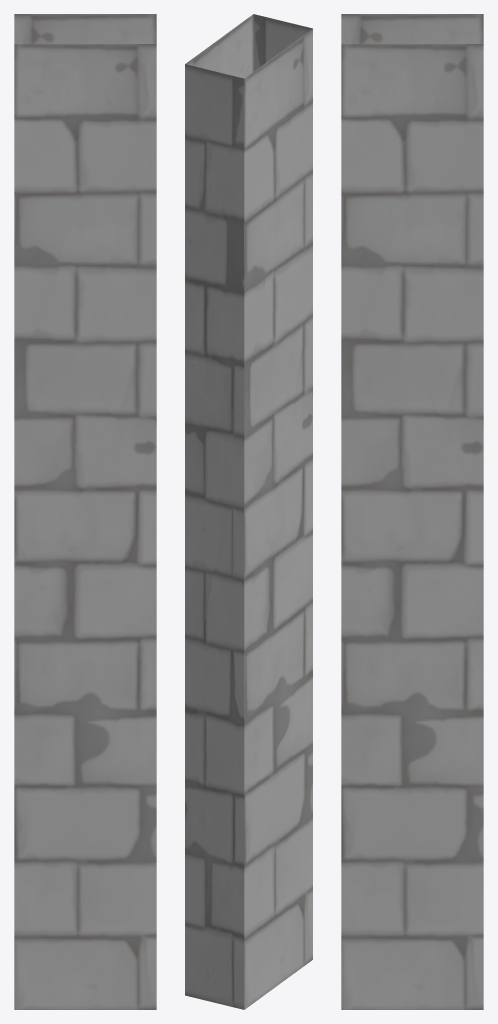
Rendered from Wall02x04_Prototype.fbx.
3 views of the same model, side by side, from view 1: azimuth 90°, elevation 25°; view 2: azimuth 150°, elevation 25°; view 3: azimuth 270°, elevation 25° (orthographic). The views are drawn at different scales.
Parts seen in each view (by area): view 1: Mat_Tile_BrickWall01 4; view 2: Mat_Tile_BrickWall01 4; view 3: Mat_Tile_BrickWall01 4.
Boxes of the visible parts, left/top/right/bottom form: Mat_Tile_BrickWall01 4: left=14, top=14, right=156, bottom=1009; Mat_Tile_BrickWall01 4: left=185, top=14, right=312, bottom=1009; Mat_Tile_BrickWall01 4: left=341, top=14, right=483, bottom=1009.
Bounding box in the file's own units: 0.2 × 3 × 0.4.
1 material, 1 textured.
